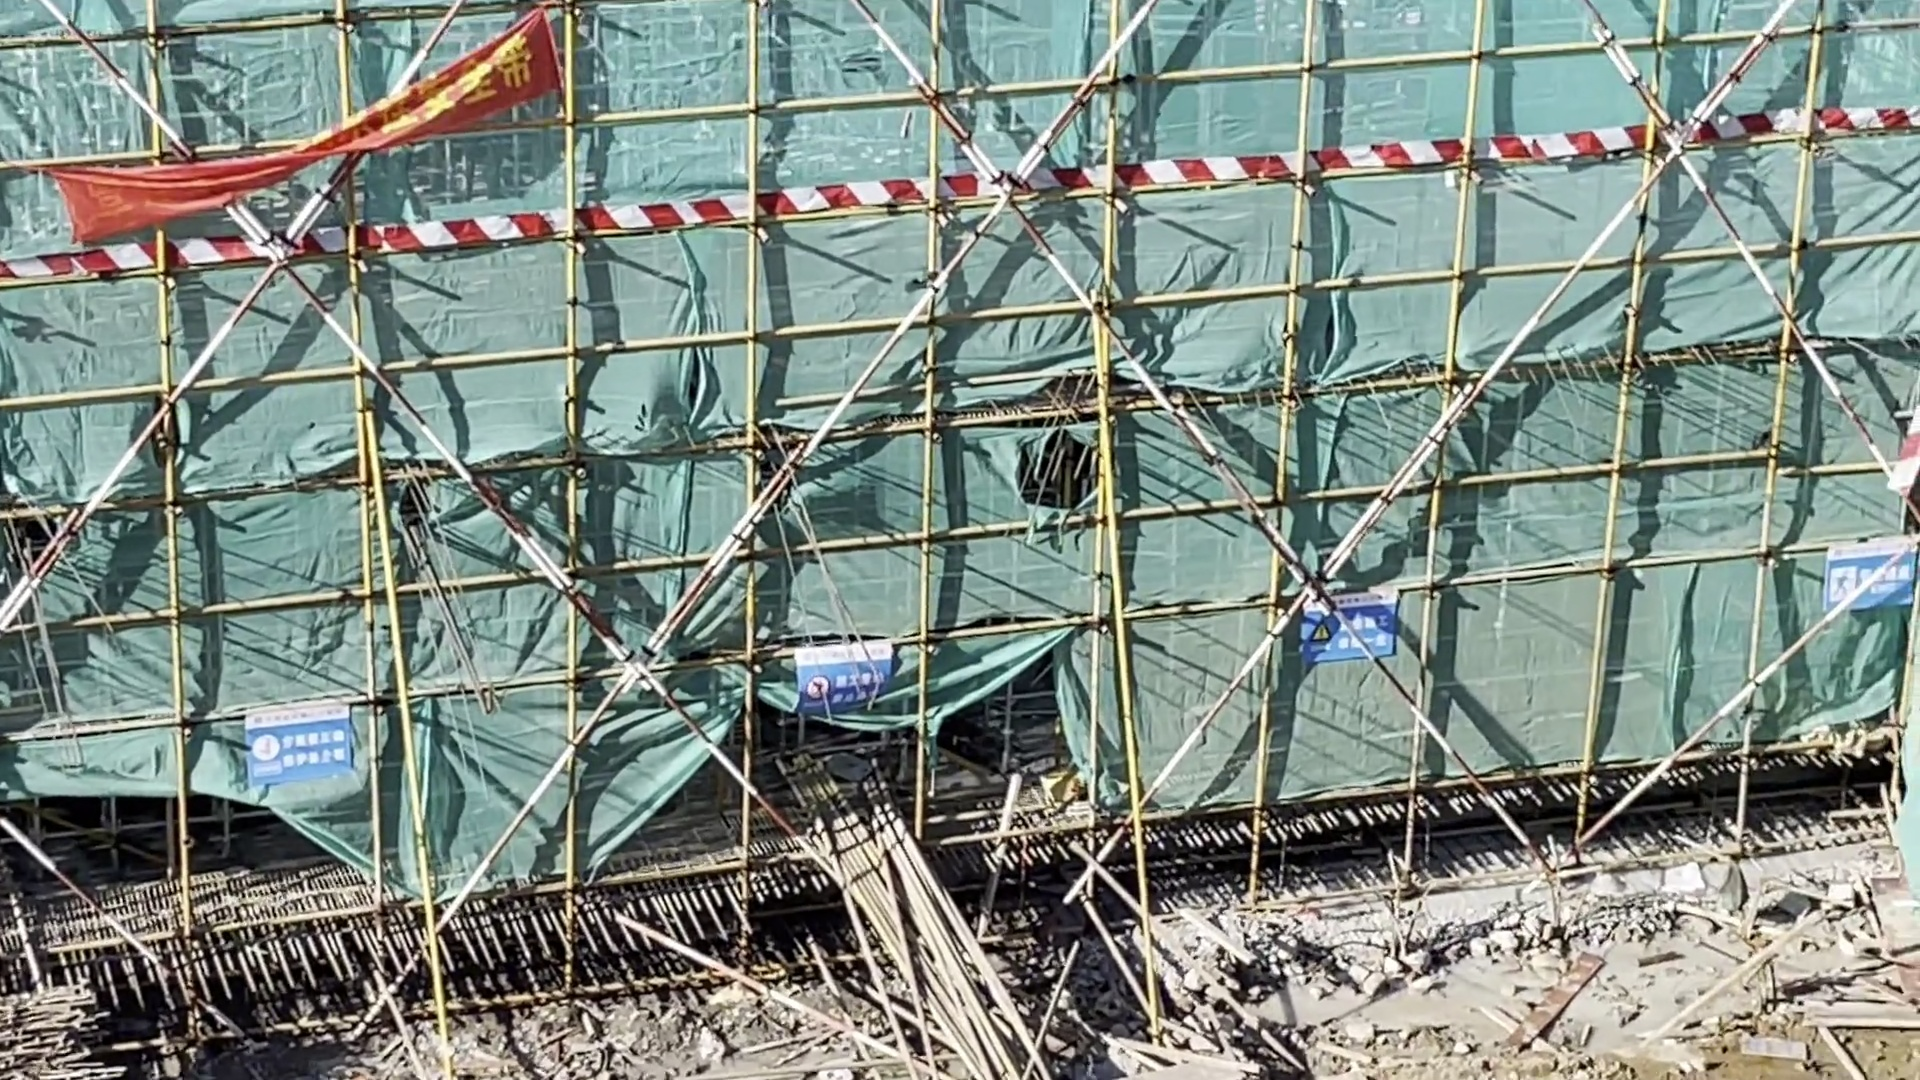slogan: (61, 24, 549, 237), (1261, 574, 1411, 669), (789, 624, 914, 727), (233, 702, 363, 791), (1815, 517, 1920, 617)
